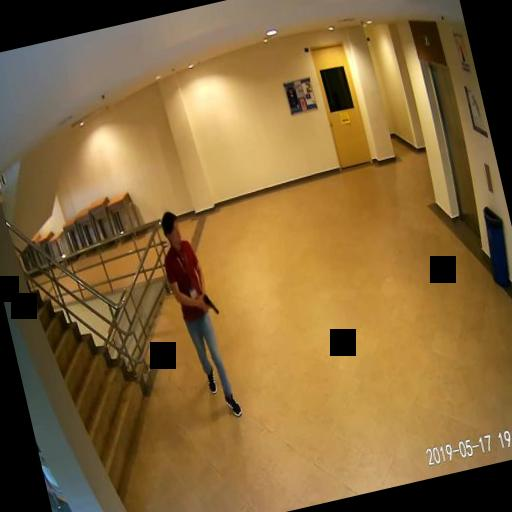Handgun: (198, 290, 217, 316)
